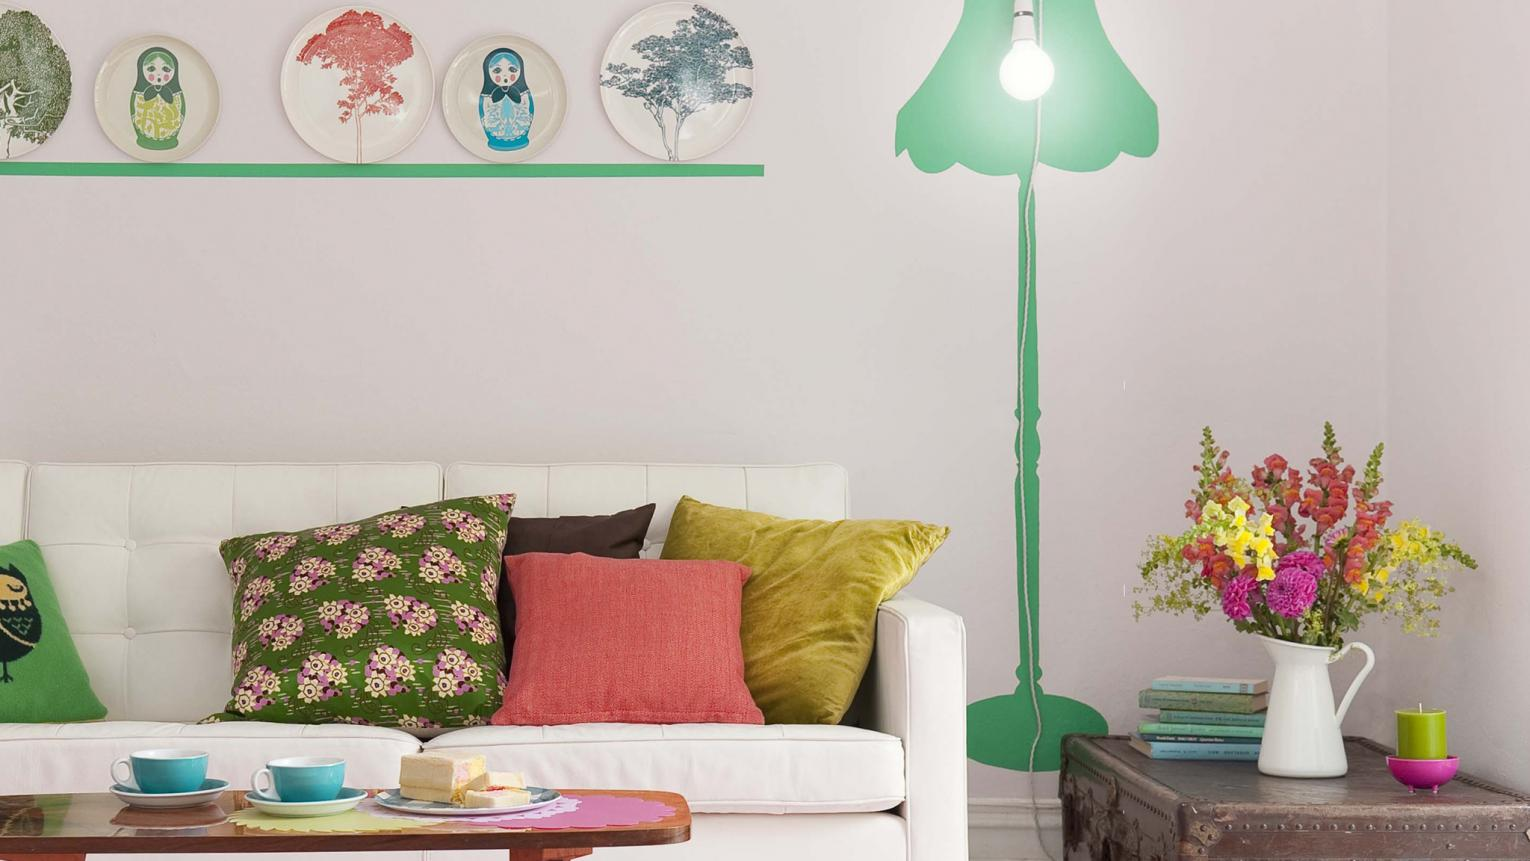biru: (265, 760, 356, 803), (129, 755, 220, 798)
hijau: (224, 499, 494, 721), (4, 544, 103, 720), (1394, 705, 1454, 759)
merah: (503, 553, 758, 723)
putih: (1, 455, 326, 759), (1256, 635, 1352, 774)
